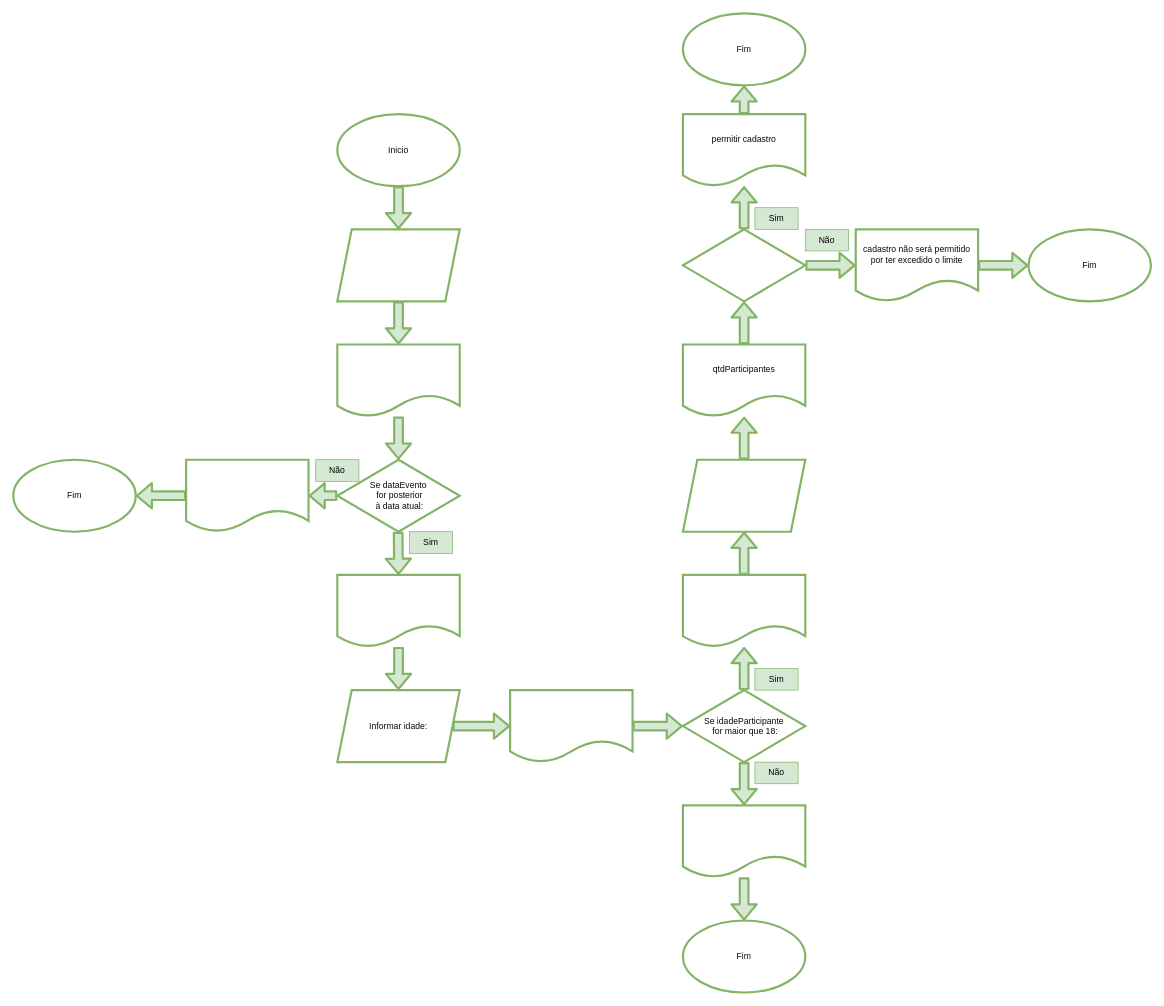
This 1164x1006 diagram has some shape labels left out. The shapes that lost their labels are listed below. From the top down, each one's centre as x and y in pixels, then its label:
At (398,265): "Informe a data do evento:".
At (743,265): "Enquanto a qtdParticipantes for inferior a 100:".
At (398,380): "dataEvento".
At (247,495): "cadastro não será permitido por data inválida".
At (743,495): "Listar participantes e palestrantes por evento:".
At (398,610): "permitir o evento".
At (743,610): "permitir o cadastro".
At (571,726): "idadeParticipante".
At (743,841): "o cadastro não é permitido pela idade".
